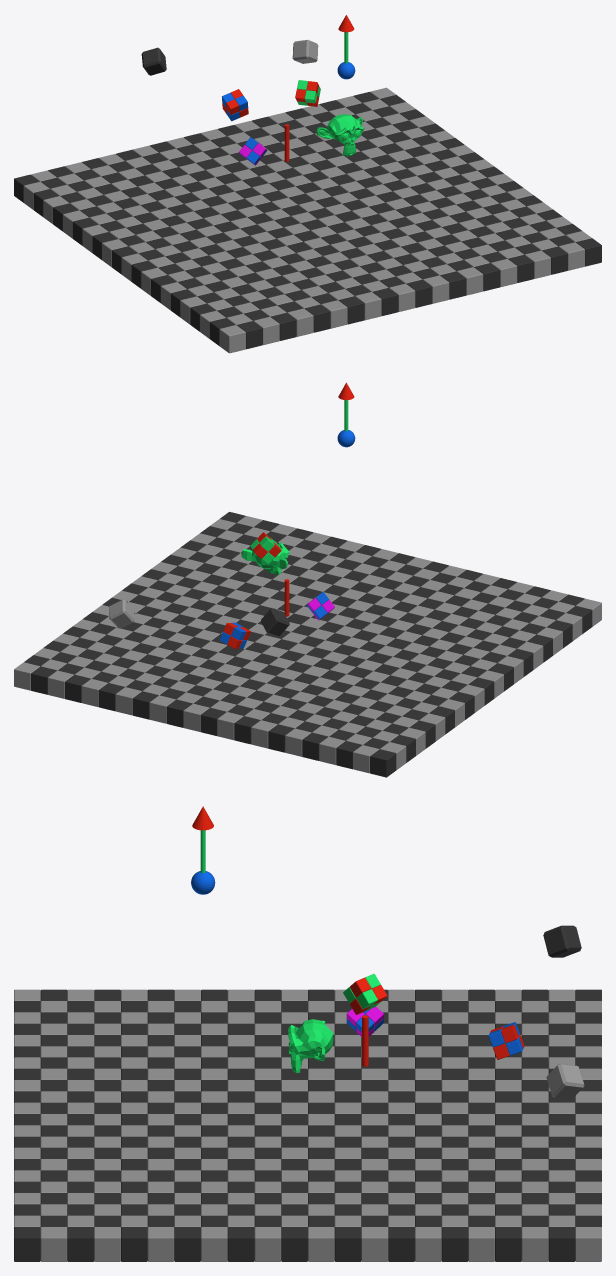
The model's file is ternion.glb.
The picture shows the model from 3 angles, top to bottom: view 1: azimuth 30°, elevation 25°; view 2: azimuth 150°, elevation 25°; view 3: azimuth 270°, elevation 25°; orthographic projection. The views are drawn at different scales.
Parts seen in each view (by area): view 1: Floor_Mesh, Suzanne.001, cube_red_blue, box2, Cube.002, Cube.001; view 2: Floor_Mesh, Suzanne.001, cube_red_blue, Cube.001, box2, Cube.002; view 3: Floor_Mesh, Suzanne.001, box2, Cube.001, Cube.002, cube_red_blue, box1.
Part boxes in pixels (x1,y1,x2,y2): Floor_Mesh: [14, 87, 601, 353]; Suzanne.001: [316, 114, 364, 156]; cube_red_blue: [222, 89, 248, 121]; box2: [295, 80, 320, 106]; Cube.002: [141, 47, 166, 75]; Cube.001: [292, 39, 318, 63]; Floor_Mesh: [14, 512, 601, 777]; Suzanne.001: [241, 542, 289, 574]; cube_red_blue: [219, 622, 250, 648]; Cube.001: [109, 599, 134, 628]; box2: [250, 532, 281, 564]; Cube.002: [261, 608, 289, 636]; Floor_Mesh: [14, 989, 601, 1261]; Suzanne.001: [288, 1019, 333, 1073]; box2: [343, 973, 387, 1014]; Cube.001: [546, 1063, 584, 1099]; Cube.002: [543, 925, 581, 957]; cube_red_blue: [488, 1022, 524, 1059]; box1: [346, 1006, 383, 1036].
Size of the model in its own units: 22 by 13.7 by 22.
